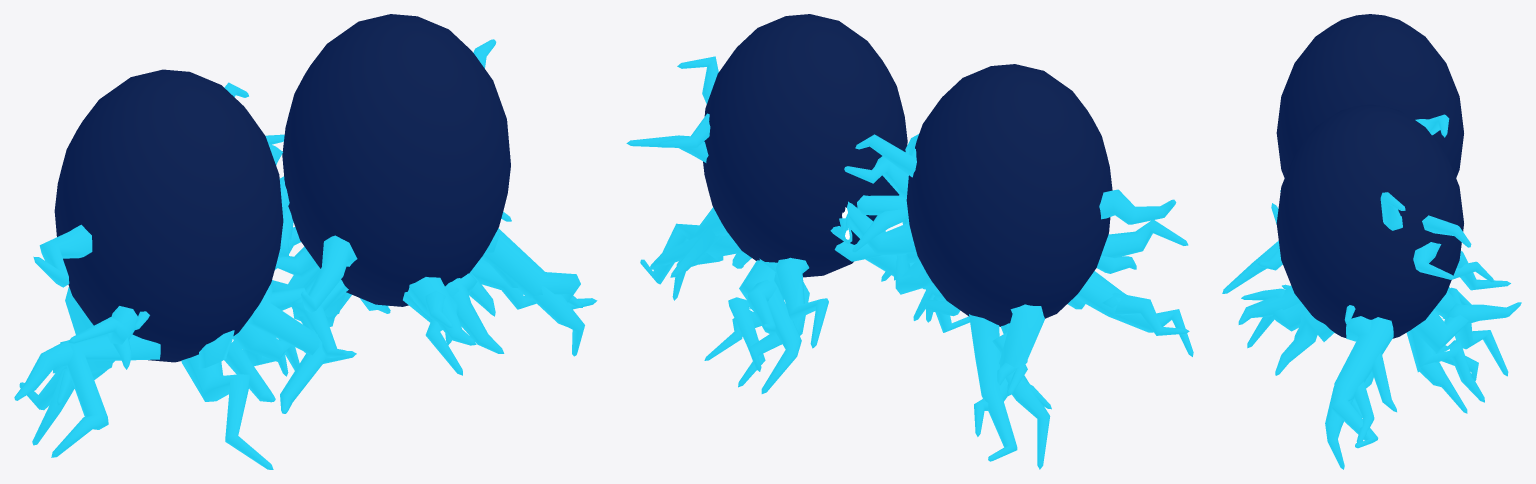
File: LA_LightningArms.glb
3 views of the same model, side by side, from view 1: azimuth 30°, elevation 25°; view 2: azimuth 150°, elevation 25°; view 3: azimuth 270°, elevation 25° (orthographic). The views are drawn at different scales.
Parts seen in each view (by area): view 1: LA_LightningArm_R_Halo, LA_LightningArm_L_Halo, LA_LightningArm_L_Bolts_D, LA_LightningArm_R_Bolts_B, LA_LightningArm_L_Bolts_C, LA_LightningArm_R_Bolts_C, LA_LightningArm_R_Bolts_D, LA_LightningArm_L_Bolts_A, LA_LightningArm_L_Bolts_B, LA_LightningArm_R_Bolts_A; view 2: LA_LightningArm_L_Halo, LA_LightningArm_R_Halo, LA_LightningArm_L_Bolts_B, LA_LightningArm_L_Bolts_C, LA_LightningArm_L_Bolts_D, LA_LightningArm_R_Bolts_A, LA_LightningArm_L_Bolts_A, LA_LightningArm_R_Bolts_B, LA_LightningArm_R_Bolts_C, LA_LightningArm_R_Bolts_D; view 3: LA_LightningArm_R_Halo, LA_LightningArm_L_Halo, LA_LightningArm_R_Bolts_B, LA_LightningArm_R_Bolts_D, LA_LightningArm_R_Bolts_A, LA_LightningArm_R_Bolts_C, LA_LightningArm_L_Bolts_C, LA_LightningArm_L_Bolts_D, LA_LightningArm_L_Bolts_B.
Boxes of the visible parts, x1=… form: LA_LightningArm_R_Halo: x1=282, y1=14, x2=510, y2=306; LA_LightningArm_L_Halo: x1=54, y1=69, x2=283, y2=362; LA_LightningArm_L_Bolts_D: x1=14, y1=134, x2=299, y2=469; LA_LightningArm_R_Bolts_B: x1=326, y1=228, x2=597, y2=375; LA_LightningArm_L_Bolts_C: x1=19, y1=82, x2=356, y2=410; LA_LightningArm_R_Bolts_C: x1=280, y1=39, x2=536, y2=413; LA_LightningArm_R_Bolts_D: x1=271, y1=211, x2=511, y2=345; LA_LightningArm_L_Bolts_A: x1=33, y1=181, x2=289, y2=402; LA_LightningArm_L_Bolts_B: x1=32, y1=176, x2=305, y2=445; LA_LightningArm_R_Bolts_A: x1=275, y1=229, x2=582, y2=353; LA_LightningArm_L_Halo: x1=906, y1=64, x2=1112, y2=326; LA_LightningArm_R_Halo: x1=703, y1=14, x2=907, y2=277; LA_LightningArm_L_Bolts_B: x1=830, y1=201, x2=1050, y2=469; LA_LightningArm_L_Bolts_C: x1=855, y1=134, x2=1188, y2=461; LA_LightningArm_L_Bolts_D: x1=844, y1=156, x2=1193, y2=356; LA_LightningArm_R_Bolts_A: x1=626, y1=135, x2=828, y2=348; LA_LightningArm_L_Bolts_A: x1=852, y1=189, x2=1176, y2=395; LA_LightningArm_R_Bolts_B: x1=640, y1=113, x2=885, y2=387; LA_LightningArm_R_Bolts_C: x1=677, y1=56, x2=969, y2=371; LA_LightningArm_R_Bolts_D: x1=739, y1=195, x2=899, y2=393; LA_LightningArm_R_Halo: x1=1276, y1=104, x2=1463, y2=338; LA_LightningArm_L_Halo: x1=1276, y1=14, x2=1463, y2=177; LA_LightningArm_R_Bolts_B: x1=1247, y1=215, x2=1484, y2=469; LA_LightningArm_R_Bolts_D: x1=1238, y1=203, x2=1521, y2=376; LA_LightningArm_R_Bolts_A: x1=1275, y1=242, x2=1471, y2=442; LA_LightningArm_R_Bolts_C: x1=1282, y1=192, x2=1478, y2=417; LA_LightningArm_L_Bolts_C: x1=1415, y1=114, x2=1510, y2=290; LA_LightningArm_L_Bolts_D: x1=1222, y1=190, x2=1280, y2=293; LA_LightningArm_L_Bolts_B: x1=1447, y1=261, x2=1493, y2=291.
Size of the model in its own units: 6.28 by 3.88 by 3.36.
